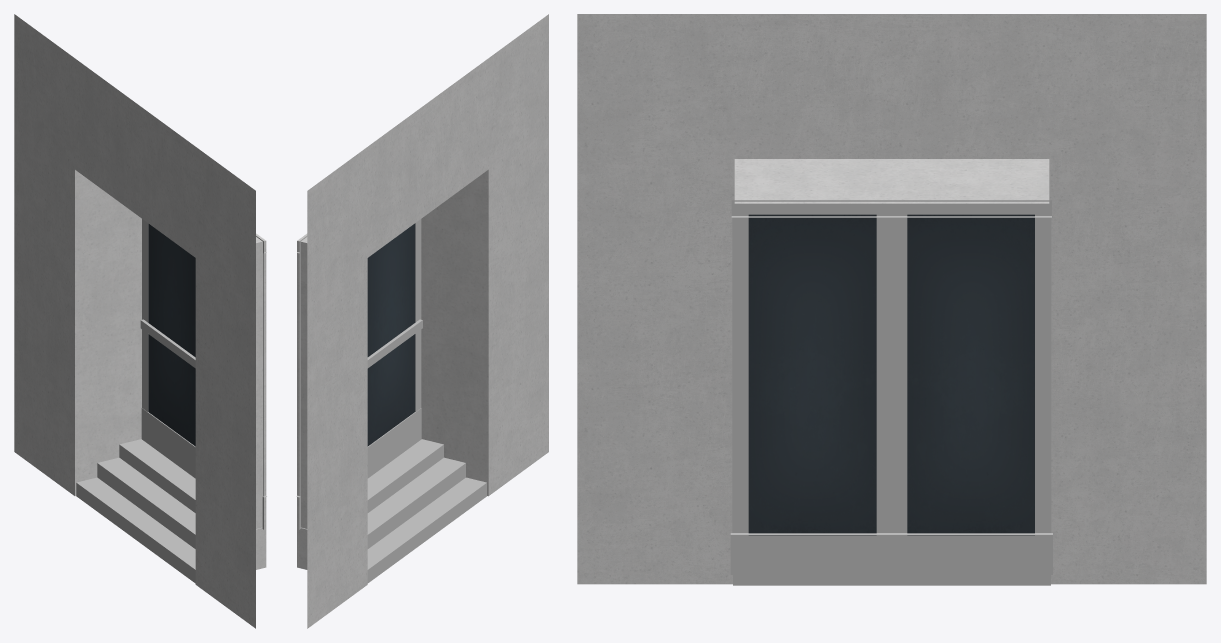
Rendered from MB_Entrance_A_01.fbx.
The picture shows the model from 3 angles, left to right: view 1: azimuth 30°, elevation 25°; view 2: azimuth 150°, elevation 25°; view 3: azimuth 270°, elevation 25°; orthographic projection. The views are drawn at different scales.
Visible parts, largest first — view 1: MB_Entrance_A_01; view 2: MB_Entrance_A_01; view 3: MB_Entrance_A_01.
Boxes of the visible parts, <box> form: MB_Entrance_A_01: <box>14,14,266,628</box>; MB_Entrance_A_01: <box>296,14,548,628</box>; MB_Entrance_A_01: <box>577,14,1206,585</box>.
Bounding box in the file's own units: 67.43 × 400 × 400.
